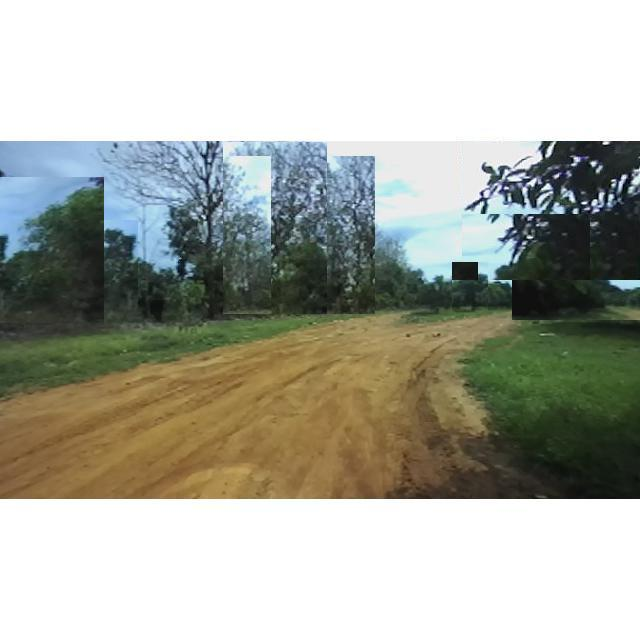direk: (84, 143, 314, 315), (462, 142, 640, 280), (223, 142, 327, 314), (0, 177, 104, 323), (279, 156, 375, 314), (512, 214, 640, 320), (351, 233, 422, 309), (126, 179, 166, 313), (94, 220, 138, 310), (452, 262, 488, 314)
